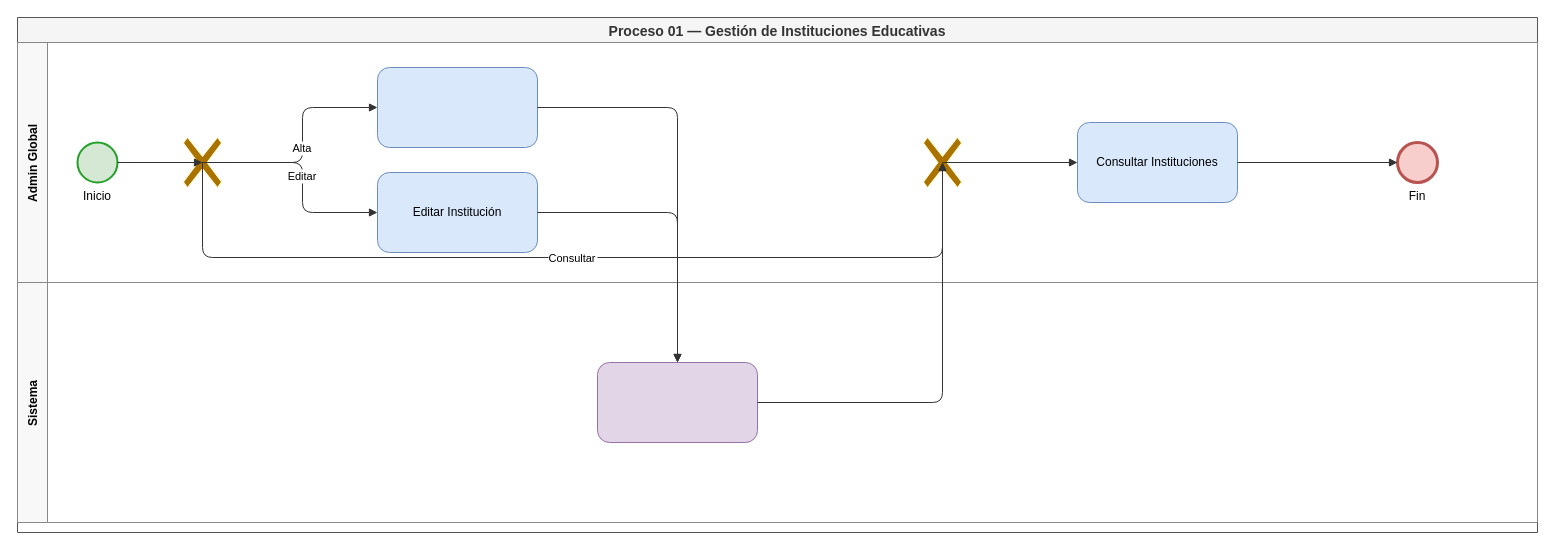
This 1555x550 diagram has some shape labels left out. Here are the shapes that lost their labels. From the top down, the box of each, then its label:
(376, 66, 538, 148): Alta de Institución
(176, 136, 228, 188): ¿Qué acción?
(596, 362, 758, 442): Persistir institución en BD Asignar alcance a AdminInstitucional
